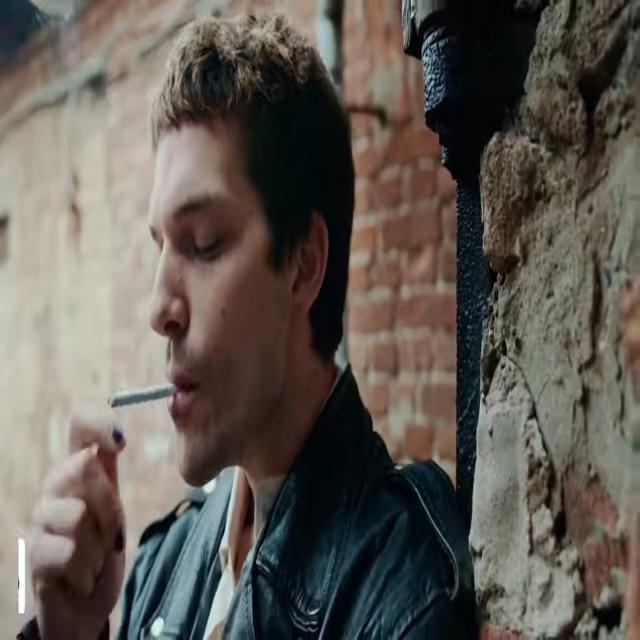Курение: (103, 387, 190, 407)
